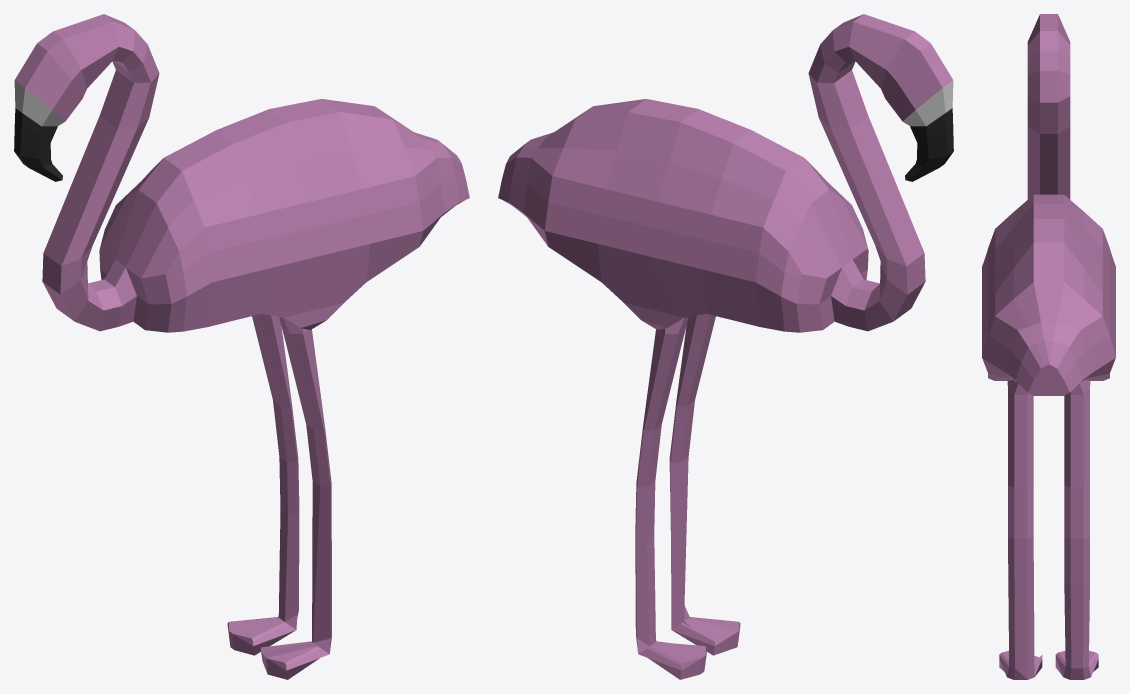
Rendered from Flamingo_textured.fbx.
The picture shows the model from 3 angles, left to right: view 1: azimuth 30°, elevation 25°; view 2: azimuth 150°, elevation 25°; view 3: azimuth 270°, elevation 25°; orthographic projection. The views are drawn at different scales.
Parts seen in each view (by area): view 1: Flamingo_Proxy1; view 2: Flamingo_Proxy1; view 3: Flamingo_Proxy1.
Boxes of the visible parts, x1=… form: Flamingo_Proxy1: x1=14, y1=14, x2=469, y2=679; Flamingo_Proxy1: x1=498, y1=14, x2=953, y2=679; Flamingo_Proxy1: x1=982, y1=14, x2=1115, y2=679.
Bounding box in the file's own units: 41.76 × 61.34 × 12.95.
